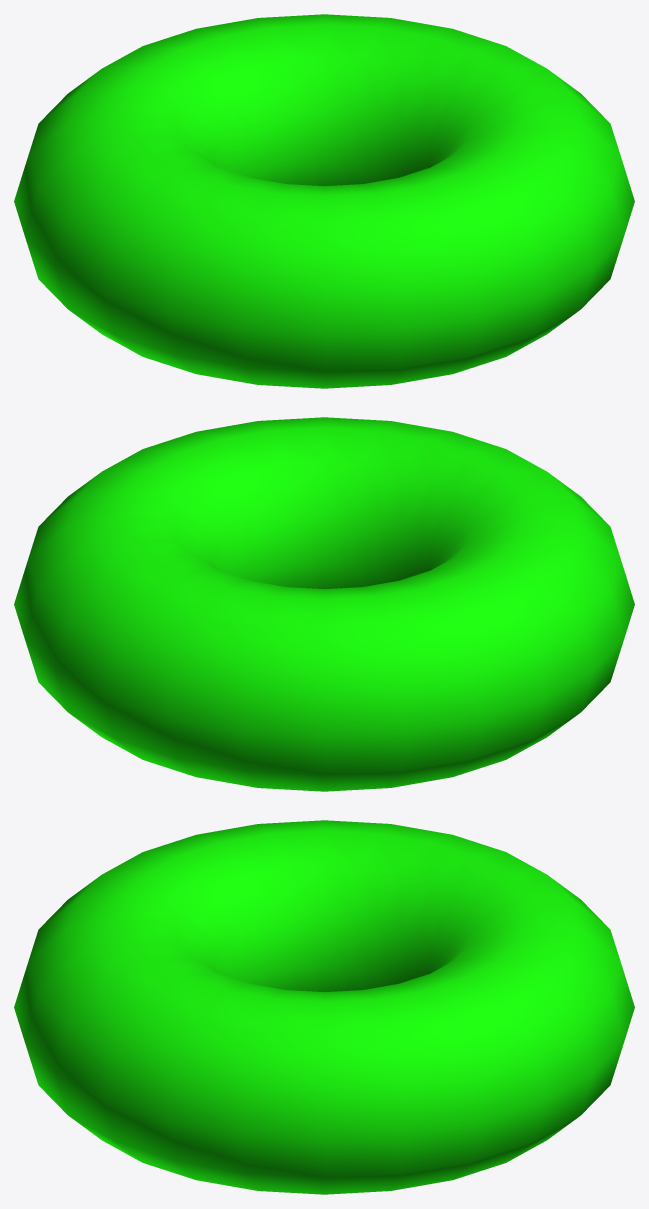
The model's file is toroidedos.obj.
The picture shows the model from 3 angles, top to bottom: view 1: azimuth 30°, elevation 25°; view 2: azimuth 150°, elevation 25°; view 3: azimuth 270°, elevation 25°; orthographic projection.
Visible parts, largest first — view 1: Torus002; view 2: Torus002; view 3: Torus002.
Part boxes in pixels (box(x1,y1,x2,y2)): Torus002: box(14, 14, 634, 388); Torus002: box(14, 417, 634, 791); Torus002: box(14, 820, 634, 1194).
Size of the model in its own units: 5.69 by 1.84 by 5.69.
